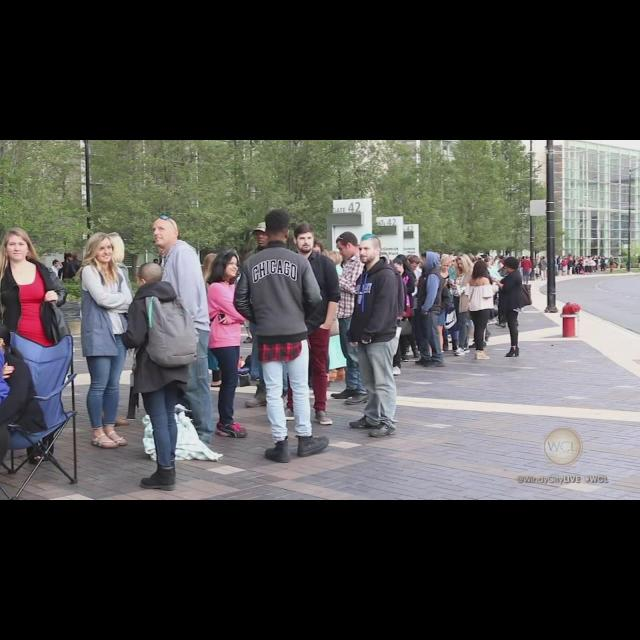head: (4, 228, 32, 262), (264, 208, 292, 242), (136, 262, 164, 290), (90, 232, 114, 264), (102, 232, 126, 264), (153, 218, 180, 246), (358, 234, 382, 264), (293, 222, 315, 254), (336, 231, 359, 261), (216, 251, 238, 277), (255, 220, 272, 248), (0, 323, 12, 353), (203, 254, 221, 274), (420, 250, 438, 270), (504, 257, 520, 273), (456, 254, 470, 272), (474, 261, 486, 275), (526, 256, 530, 260), (542, 256, 546, 260)
person: (233, 204, 333, 464), (120, 261, 202, 493), (1, 226, 72, 466), (148, 213, 218, 453), (273, 220, 341, 428), (74, 230, 138, 450), (238, 219, 306, 409), (348, 232, 400, 440), (90, 231, 142, 429), (329, 230, 379, 408), (206, 249, 252, 439), (1, 322, 52, 492), (195, 250, 233, 390), (488, 255, 534, 358), (412, 250, 448, 368), (464, 258, 496, 362), (448, 253, 479, 359), (520, 254, 532, 286), (539, 255, 549, 281)
